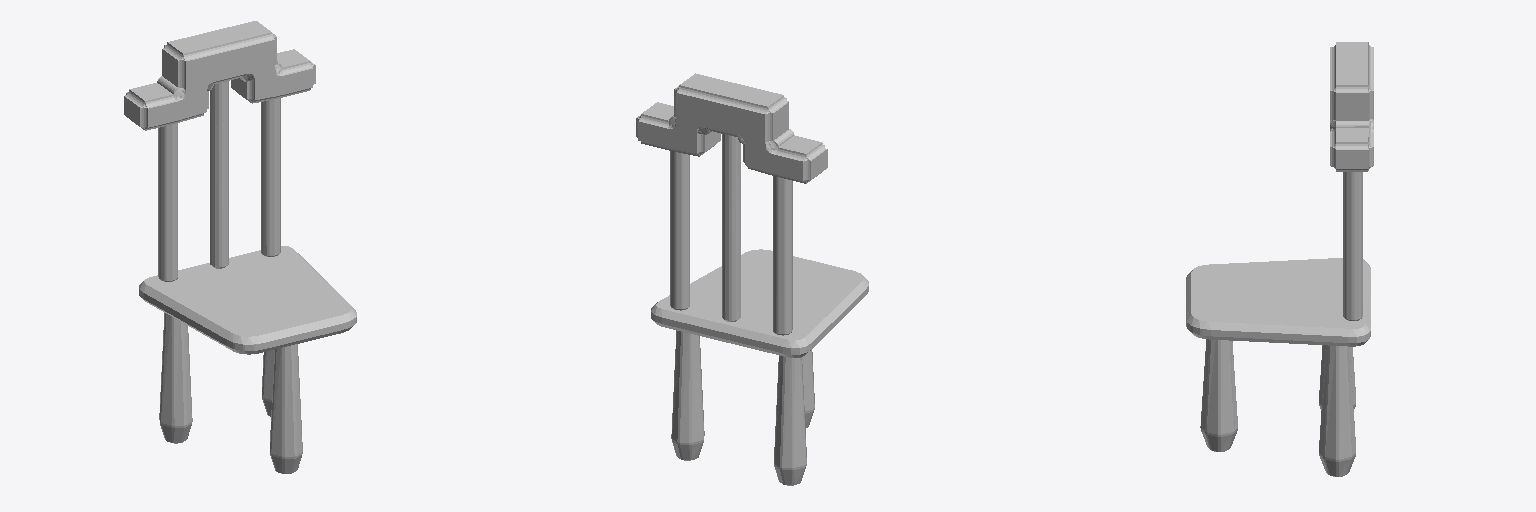
File: chair object.obj
The picture shows the model from 3 angles: view 1: azimuth 30°, elevation 25°; view 2: azimuth 150°, elevation 25°; view 3: azimuth 270°, elevation 25°; orthographic projection.
Parts seen in each view (by area): view 1: seat, head, leg1, leg3, back1, back2, back3, leg2; view 2: seat, head, leg3, leg2, back1, back2, back3, leg1; view 3: seat, head, leg2, leg1, back2.
Boxes of the visible parts, <box> form: seat: <box>139,246,356,354</box>; head: <box>124,21,315,130</box>; leg1: <box>270,344,302,473</box>; leg3: <box>159,313,192,443</box>; back1: <box>210,81,228,268</box>; back2: <box>261,98,280,256</box>; back3: <box>158,123,177,281</box>; leg2: <box>262,350,273,416</box>; seat: <box>651,249,868,357</box>; head: <box>636,73,827,183</box>; leg3: <box>774,355,806,485</box>; leg2: <box>671,330,704,460</box>; back1: <box>722,134,740,321</box>; back2: <box>670,151,689,310</box>; back3: <box>773,176,792,335</box>; leg1: <box>802,350,814,427</box>; seat: <box>1186,258,1370,346</box>; head: <box>1330,42,1373,171</box>; leg2: <box>1319,345,1355,476</box>; leg1: <box>1200,339,1237,451</box>; back2: <box>1343,172,1362,320</box>.
Size of the model in its own units: 6.85 by 14.35 by 6.38.